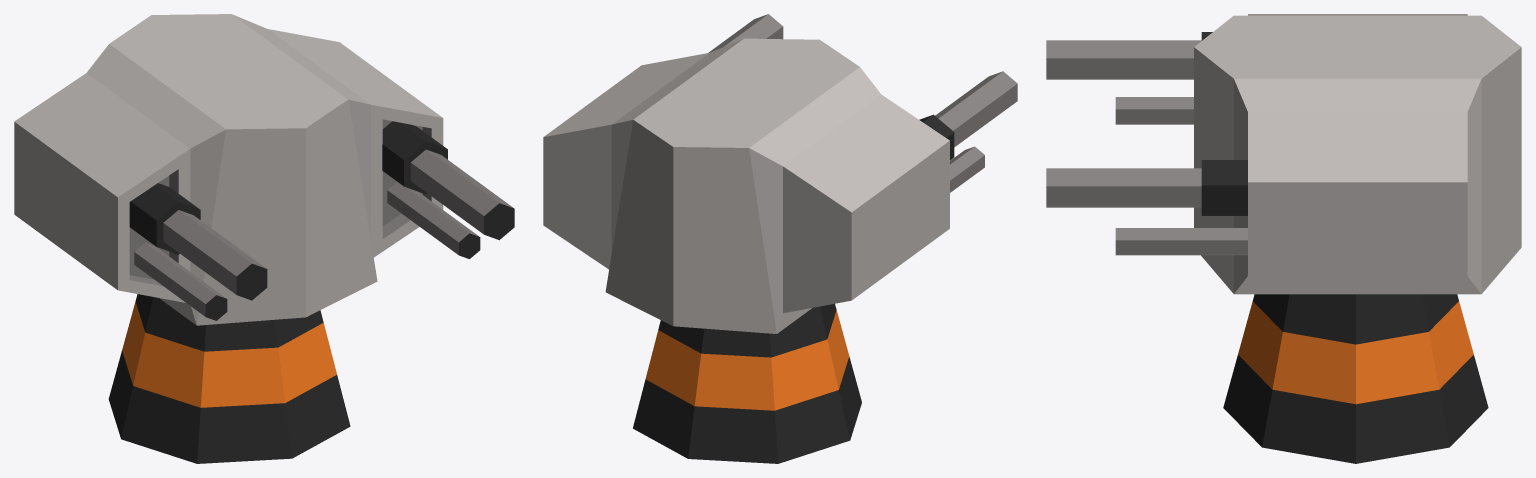
File: scifi-scifi-turret-head-sniper-small.glb
The picture shows the model from 3 angles, left to right: view 1: azimuth 30°, elevation 25°; view 2: azimuth 150°, elevation 25°; view 3: azimuth 270°, elevation 25°; orthographic projection. The views are drawn at different scales.
Visible parts, largest first — view 1: scifi-turret-head-sniper-small; view 2: scifi-turret-head-sniper-small; view 3: scifi-turret-head-sniper-small.
Part boxes in pixels (box(x1,y1,x2,y2)): scifi-turret-head-sniper-small: box(14, 14, 514, 463); scifi-turret-head-sniper-small: box(543, 14, 1017, 463); scifi-turret-head-sniper-small: box(1046, 14, 1521, 463).
Bounding box in the file's own units: 0.9 × 0.9 × 1.07.
